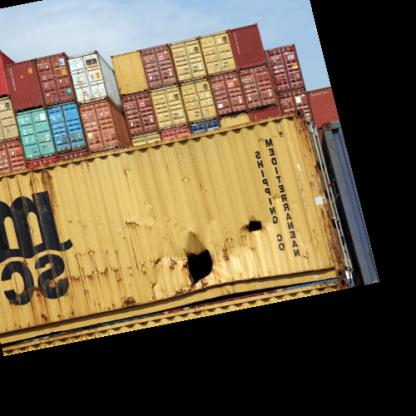Damage: (15, 252, 161, 291), (165, 236, 220, 291), (222, 202, 270, 240)
